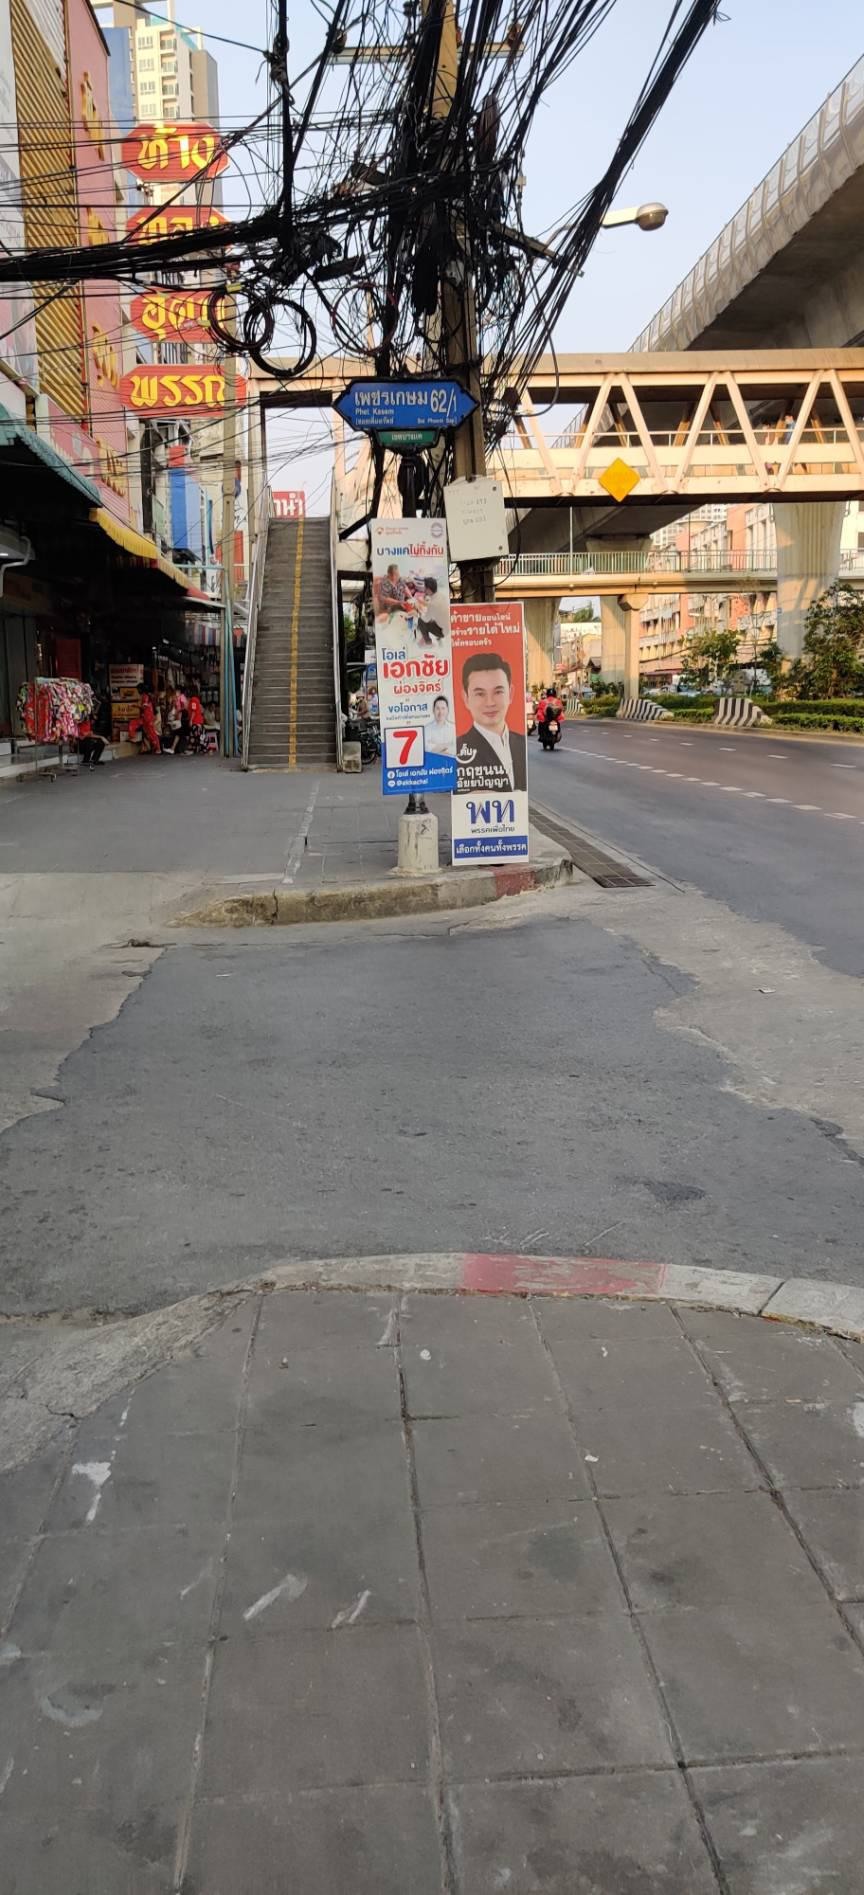Banner: (435, 599, 543, 863), (358, 508, 447, 798)
